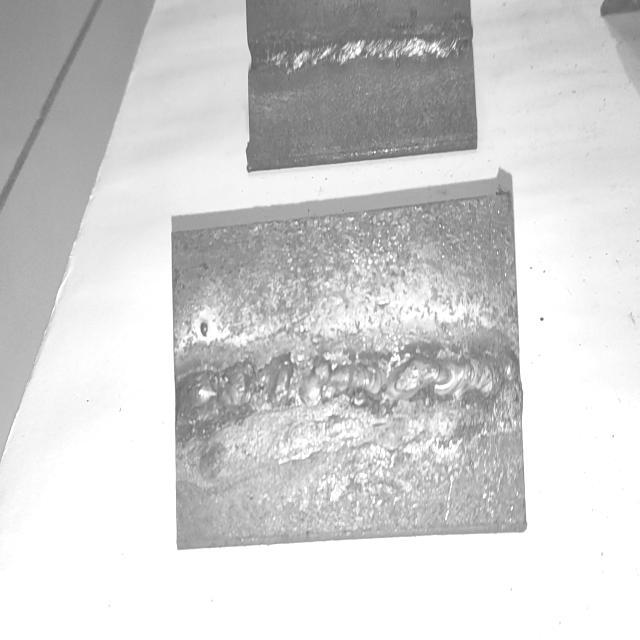Defect: (186, 338, 427, 434)
Welding Line: (177, 348, 522, 414), (251, 22, 472, 72)
Workpiece: (170, 181, 530, 558), (245, 0, 480, 174)
